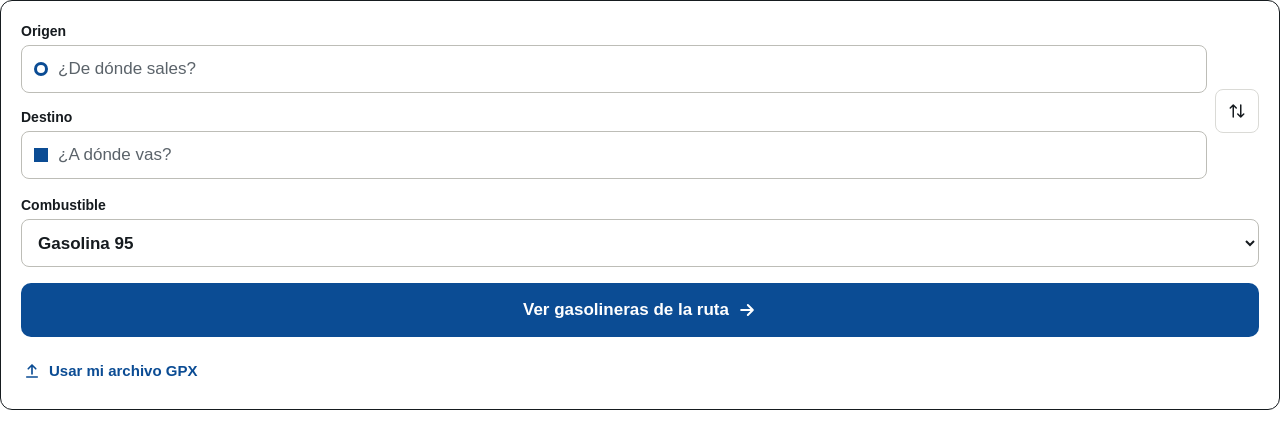
Scenario: SearchForm › swaps origin and destination
Type "Ávila" into the dropdown labelled "Origen" at point(630, 69), box x1=58 y1=46 x2=1202 y2=92
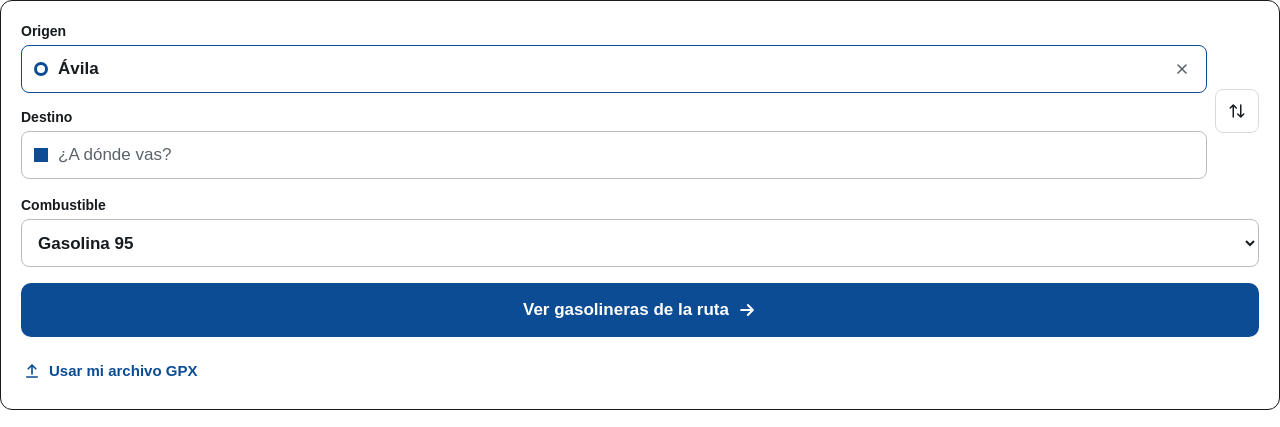
Type "Segovia" into the dropdown labelled "Destino" at point(630, 155), box x1=58 y1=132 x2=1202 y2=178
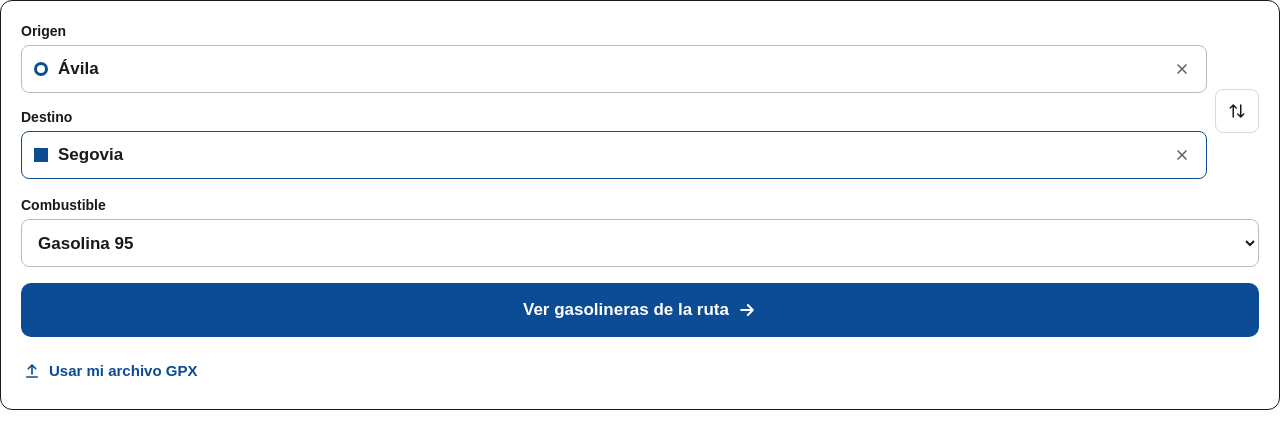
Click the button named "Intercambiar origen y destino" at point(1237, 111), box x1=1215 y1=89 x2=1259 y2=133
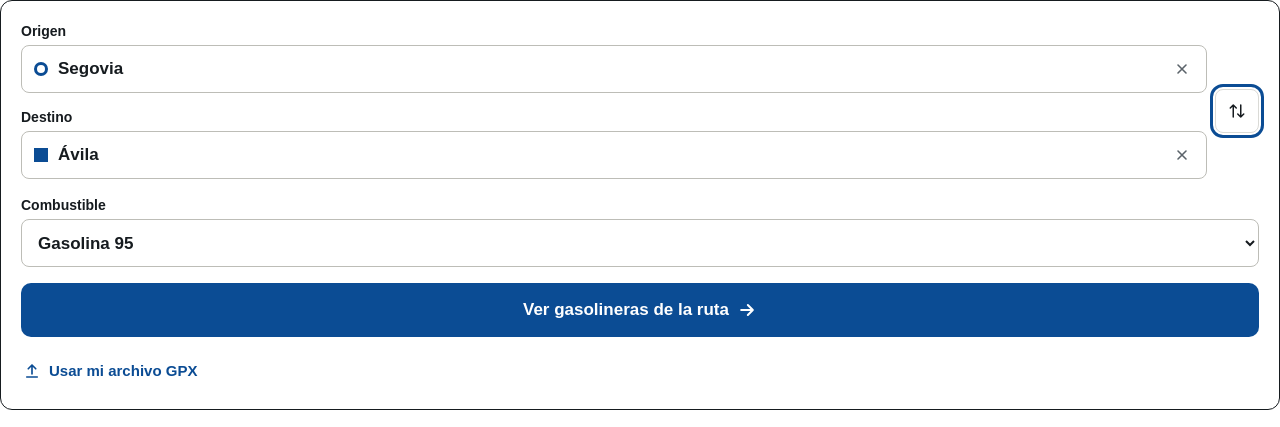
Check: the dropdown labelled "Origen" holds "Segovia", box x1=58 y1=46 x2=1152 y2=92
Check: the dropdown labelled "Destino" holds "Ávila", box x1=58 y1=132 x2=1152 y2=178
